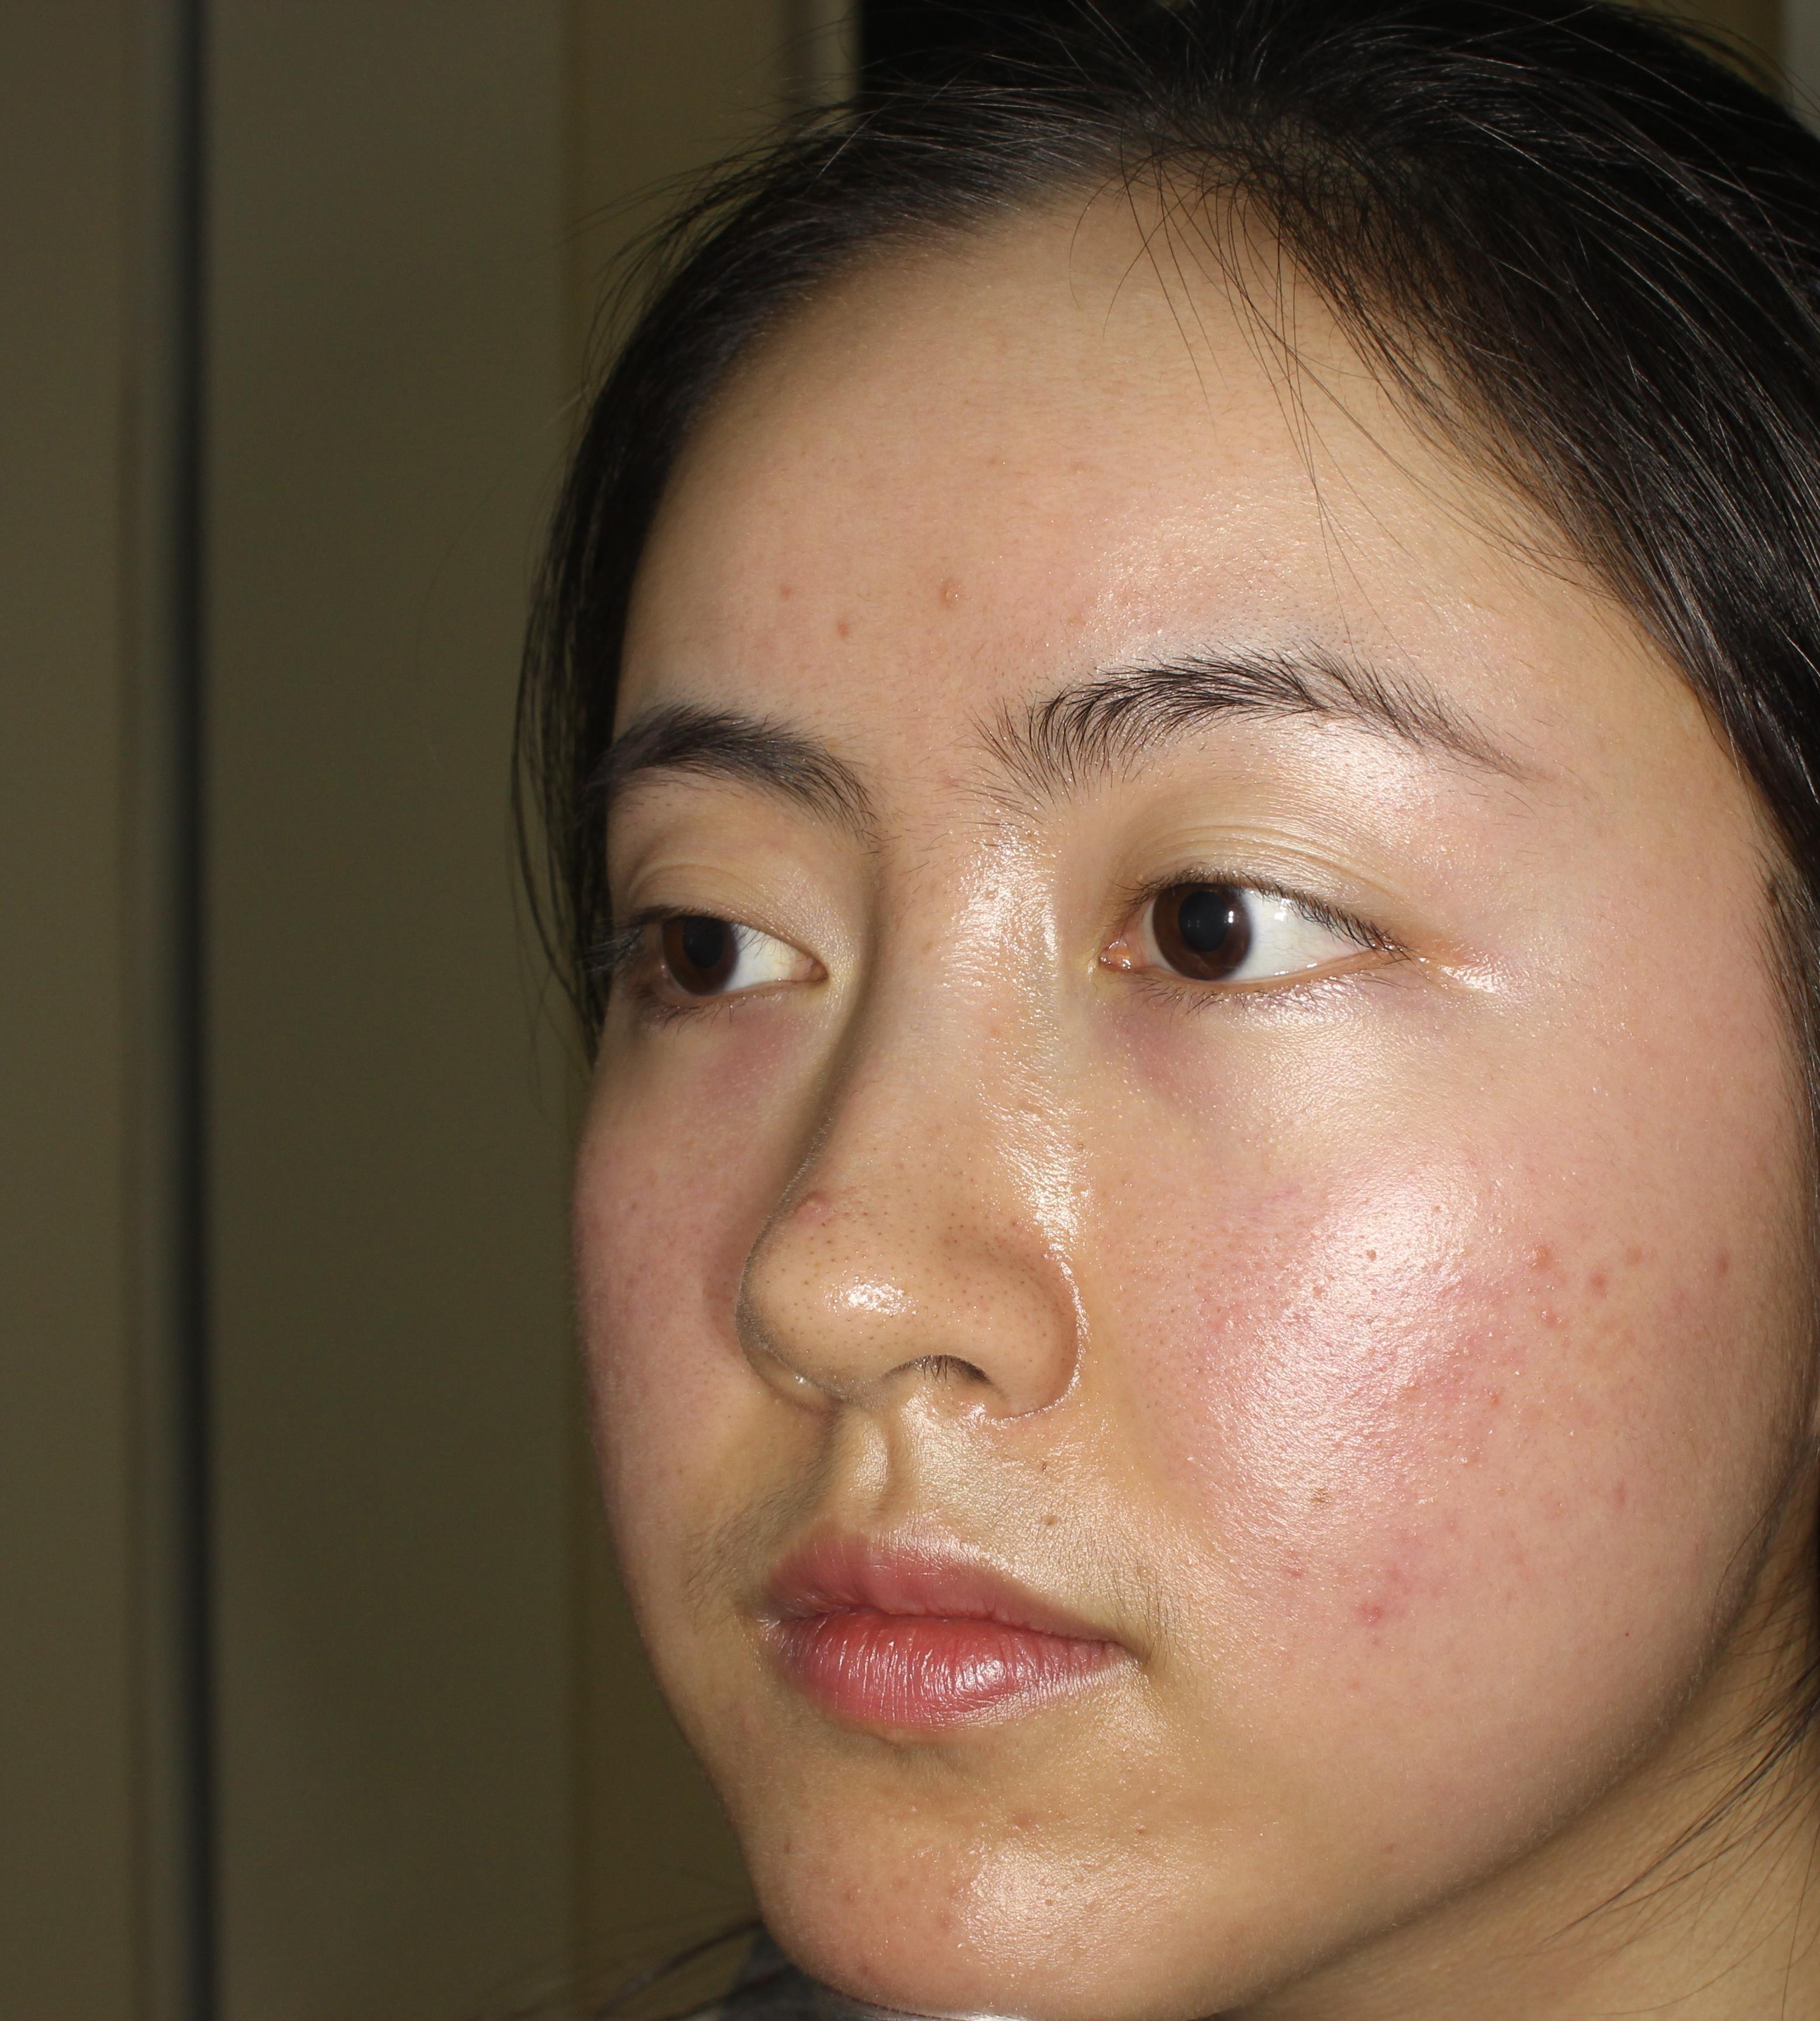fore: (1323, 1563, 1430, 1643), (1516, 1217, 1574, 1294)
